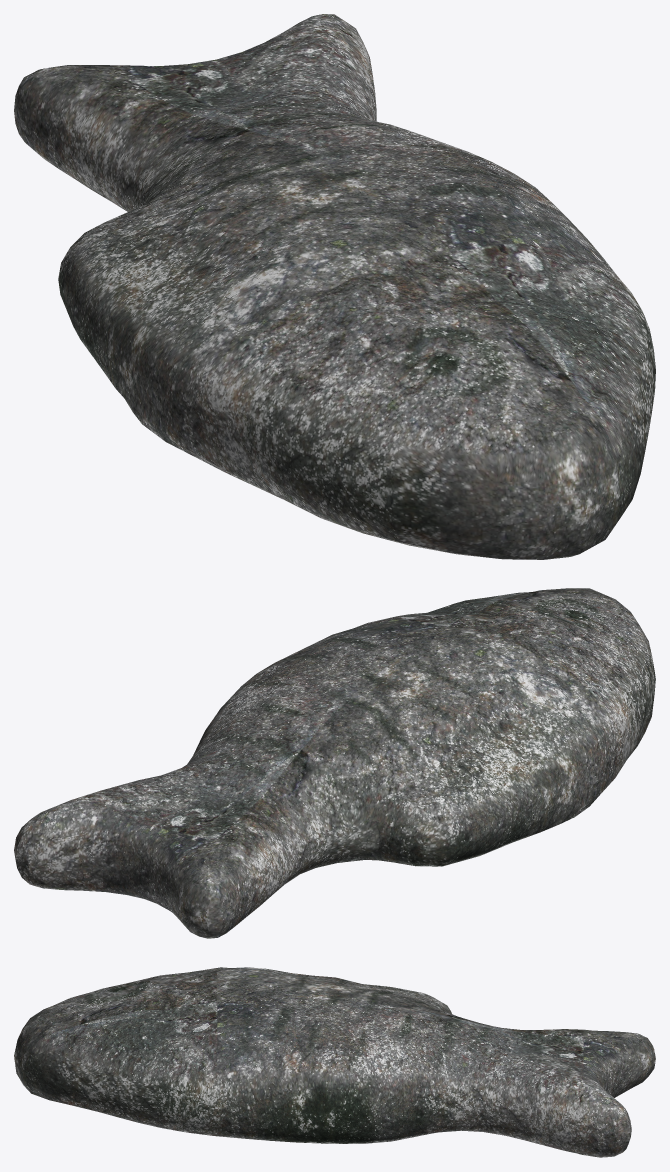
File: fish.fbx
The picture shows the model from 3 angles, top to bottom: view 1: azimuth 30°, elevation 25°; view 2: azimuth 150°, elevation 25°; view 3: azimuth 270°, elevation 25°; orthographic projection. The views are drawn at different scales.
Visible parts, largest first — view 1: PolySphere; view 2: PolySphere; view 3: PolySphere.
Boxes of the visible parts, x1=… form: PolySphere: x1=14, y1=14, x2=655, y2=559; PolySphere: x1=14, y1=588, x2=655, y2=938; PolySphere: x1=14, y1=967, x2=655, y2=1157.
Bounding box in the file's own units: 1.45 × 0.5309 × 2.8.
